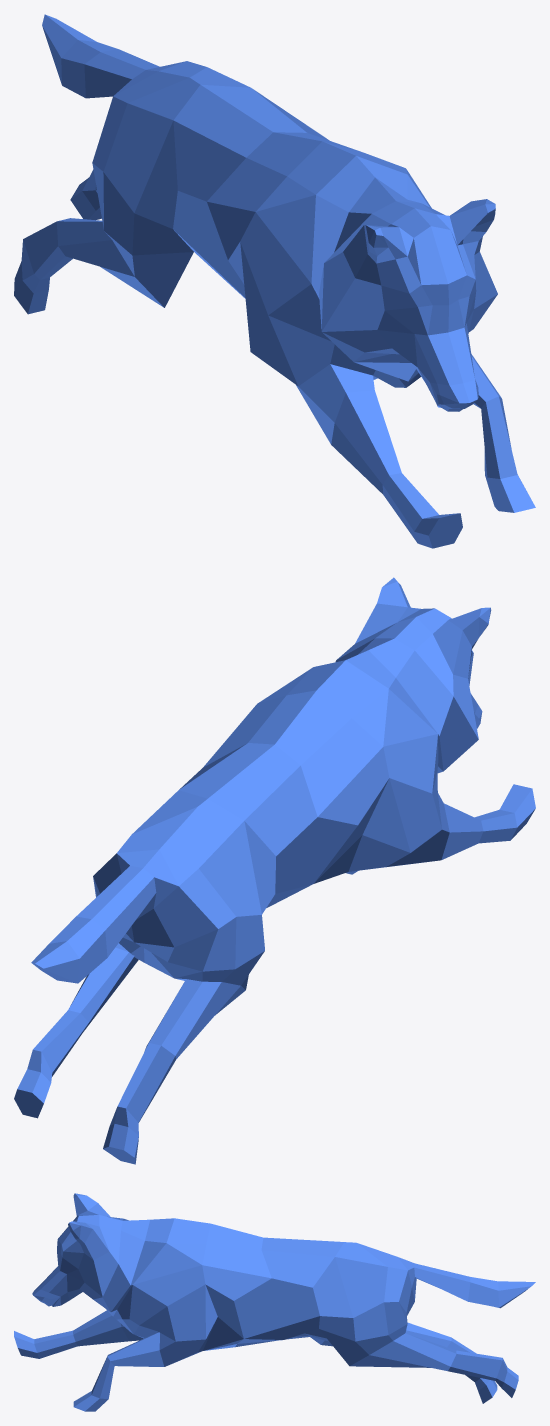
Rendered from wolfRunA_v009003.obj.
3 views of the same model, one above another, from view 1: azimuth 30°, elevation 25°; view 2: azimuth 150°, elevation 25°; view 3: azimuth 270°, elevation 25° (orthographic). The views are drawn at different scales.
Parts seen in each view (by area): view 1: comp_wolf_rig:wolf_body comp_wolf_rig:wolf; view 2: comp_wolf_rig:wolf_body comp_wolf_rig:wolf; view 3: comp_wolf_rig:wolf_body comp_wolf_rig:wolf.
Part boxes in pixels (left/top/right/bottom): comp_wolf_rig:wolf_body comp_wolf_rig:wolf: left=14, top=14, right=535, bottom=548; comp_wolf_rig:wolf_body comp_wolf_rig:wolf: left=14, top=577, right=535, bottom=1164; comp_wolf_rig:wolf_body comp_wolf_rig:wolf: left=14, top=1193, right=535, bottom=1411.
Bounding box in the file's own units: 35.18 × 61.6 × 146.
